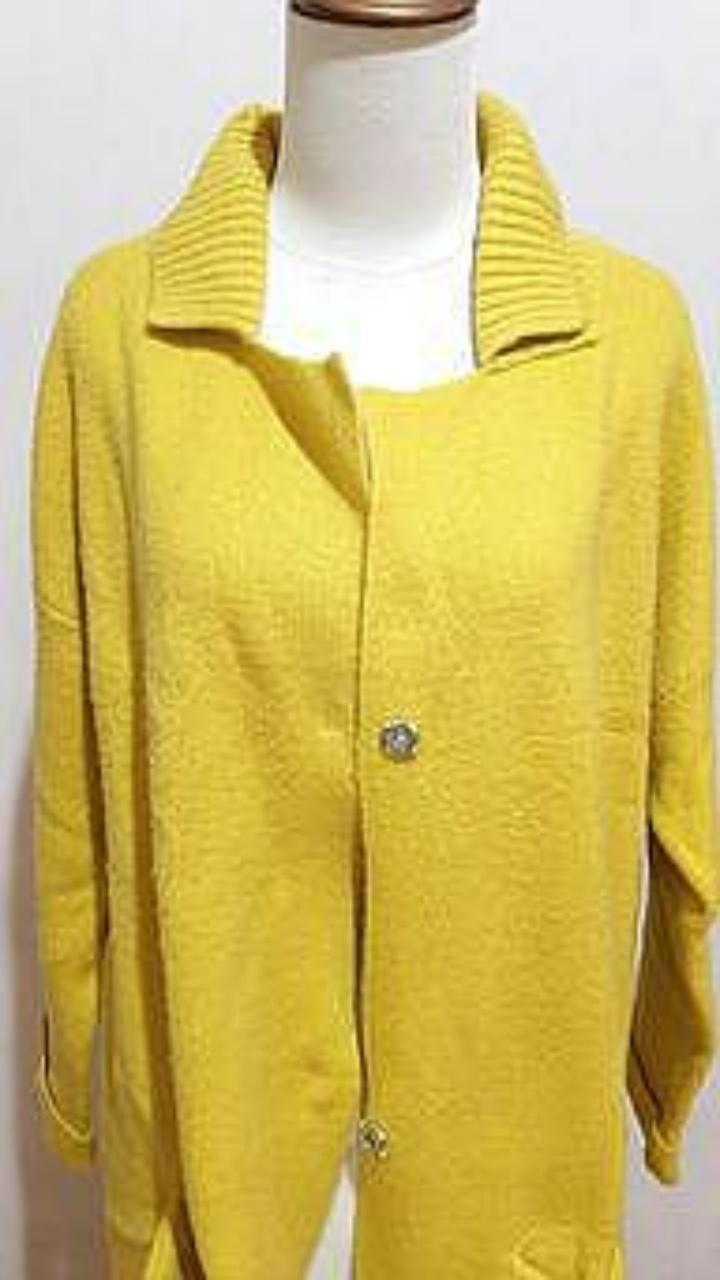Coat: (32, 91, 719, 1279)
